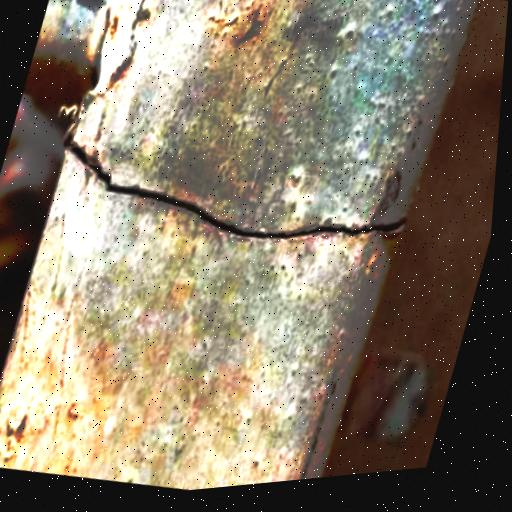crack: (68, 141, 403, 238)
